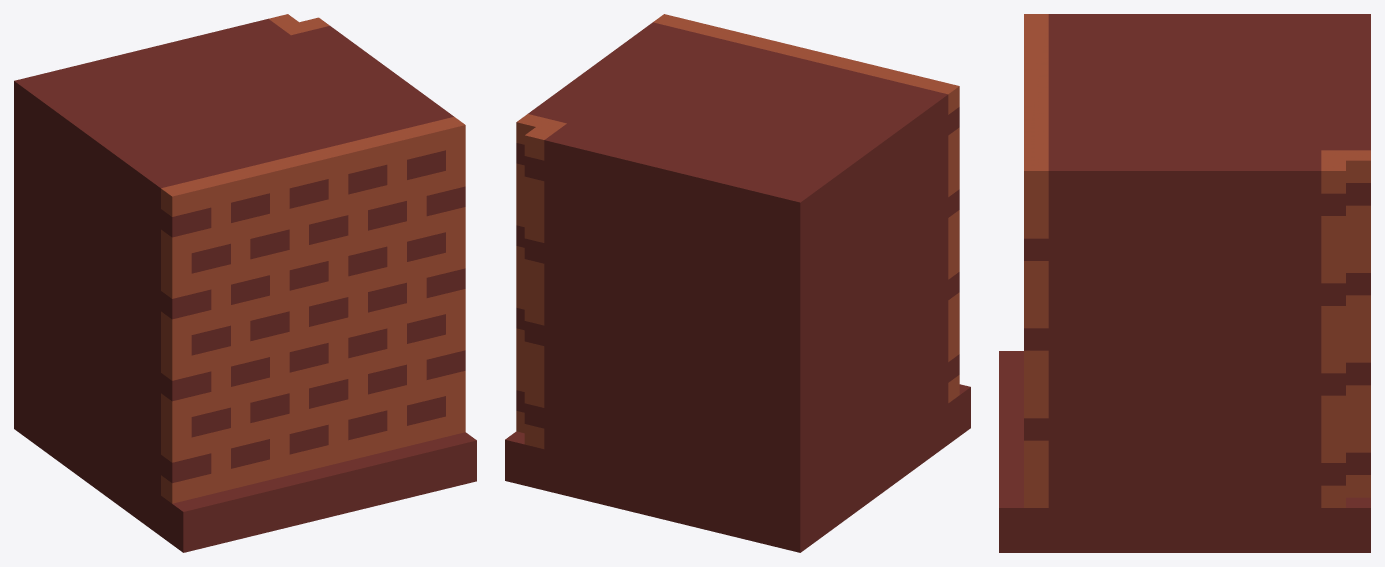
Rendered from dungeon_b_b_outer_wall_segment_c_flipped.obj.
3 renders of one model, left to right at view 1: azimuth 30°, elevation 25°; view 2: azimuth 150°, elevation 25°; view 3: azimuth 270°, elevation 25°, orthographic. The views are drawn at different scales.
Bounding box in the file's own units: 1.5 × 1.7 × 1.5.
Materials: 1 (1 with a texture image).
